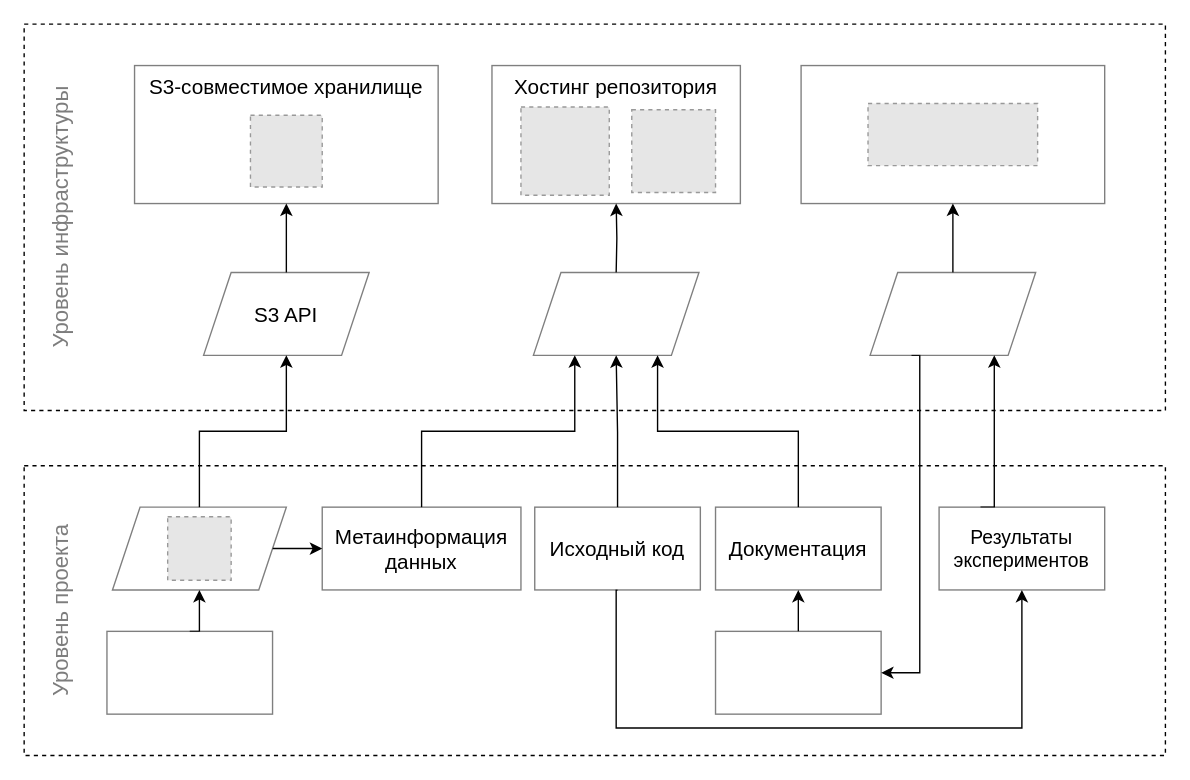
Image size: 1190x780. Some labels were removed from this diagram. Grey dashed boxes stand in for pictures. The shapes that lost their labels are listed below. From the top down, each one's box as (x1, y1, x2, y2) in pixels, then its label:
(532, 271, 699, 355): git
(869, 271, 1036, 355): MLflow API
(106, 630, 273, 714): Данные
(714, 630, 881, 714): Отчеты
